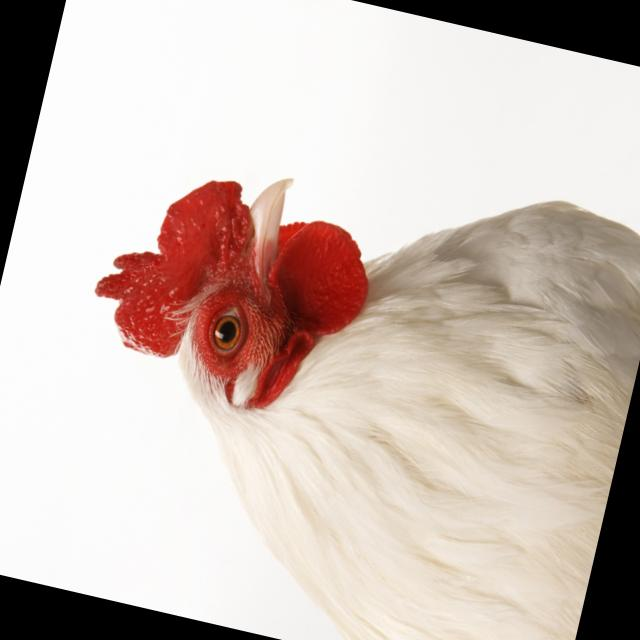Healthy: (26, 99, 640, 640)
